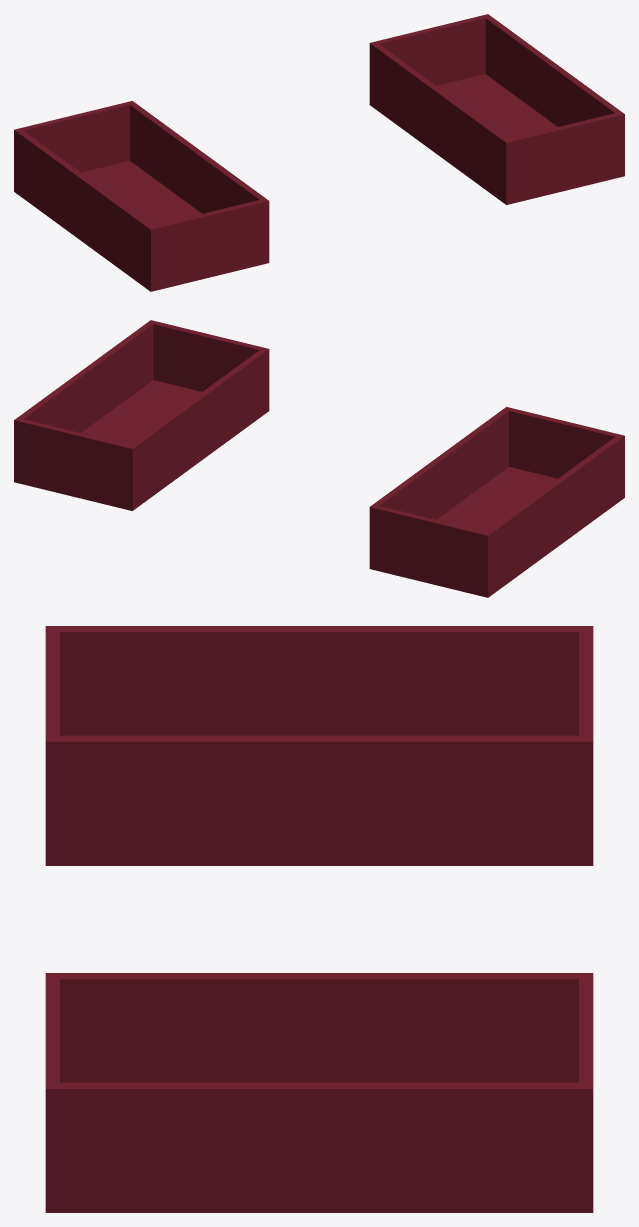
File: ark_bottom_001_msh.fbx
3 views of the same model, one above another, from view 1: azimuth 30°, elevation 25°; view 2: azimuth 150°, elevation 25°; view 3: azimuth 270°, elevation 25° (orthographic). The views are drawn at different scales.
Visible parts, largest first — view 1: ark_bottom_001_msh; view 2: ark_bottom_001_msh; view 3: ark_bottom_001_msh.
Boxes of the visible parts, x1=… form: ark_bottom_001_msh: x1=14, y1=14, x2=624, y2=291; ark_bottom_001_msh: x1=14, y1=320, x2=624, y2=597; ark_bottom_001_msh: x1=45, y1=626, x2=593, y2=1212.
Bounding box in the file's own units: 800 × 100 × 400.
